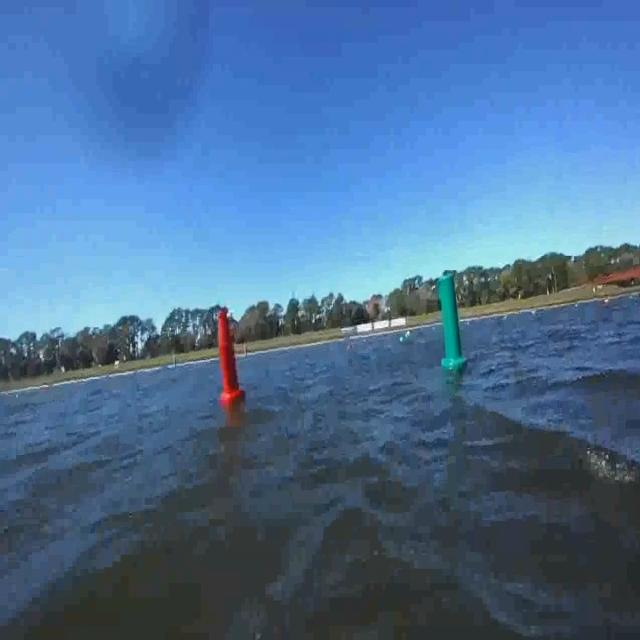green-column-buoy: (439, 278, 469, 372)
red-column-buoy: (216, 305, 245, 404)
